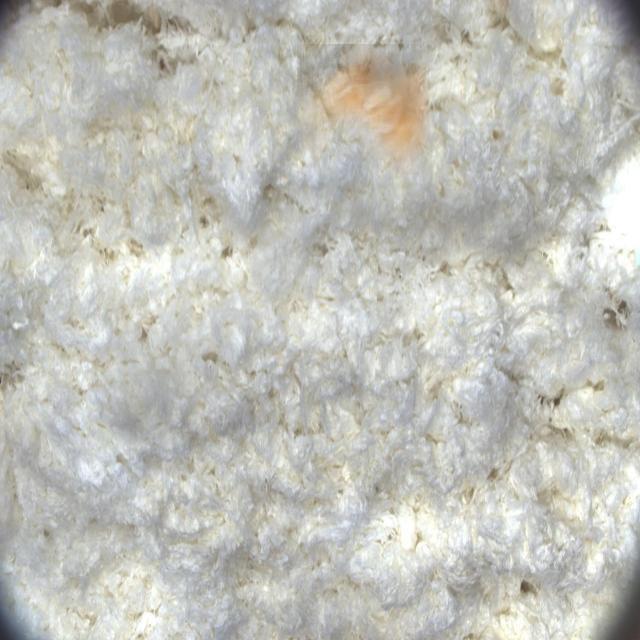dust: (297, 44, 430, 175)
